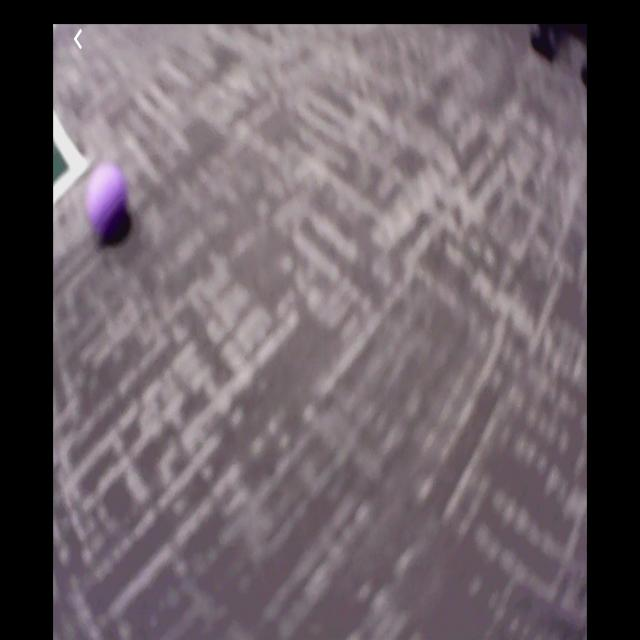ball: (87, 165, 132, 245)
